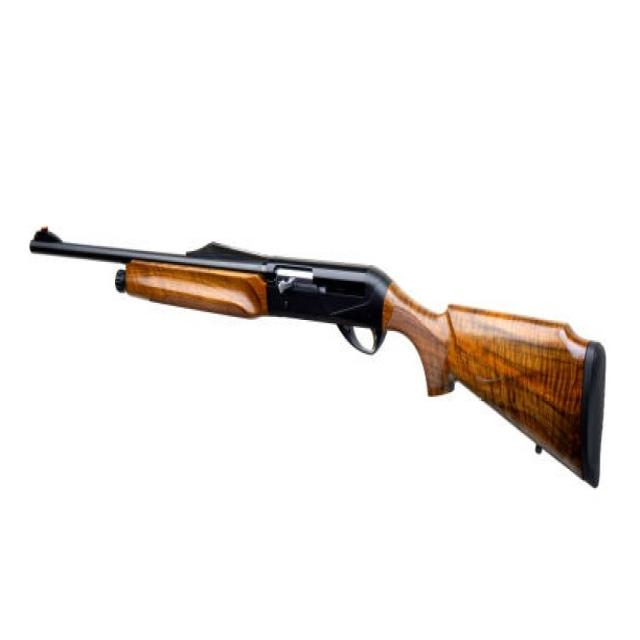rifle: (26, 222, 611, 503)
